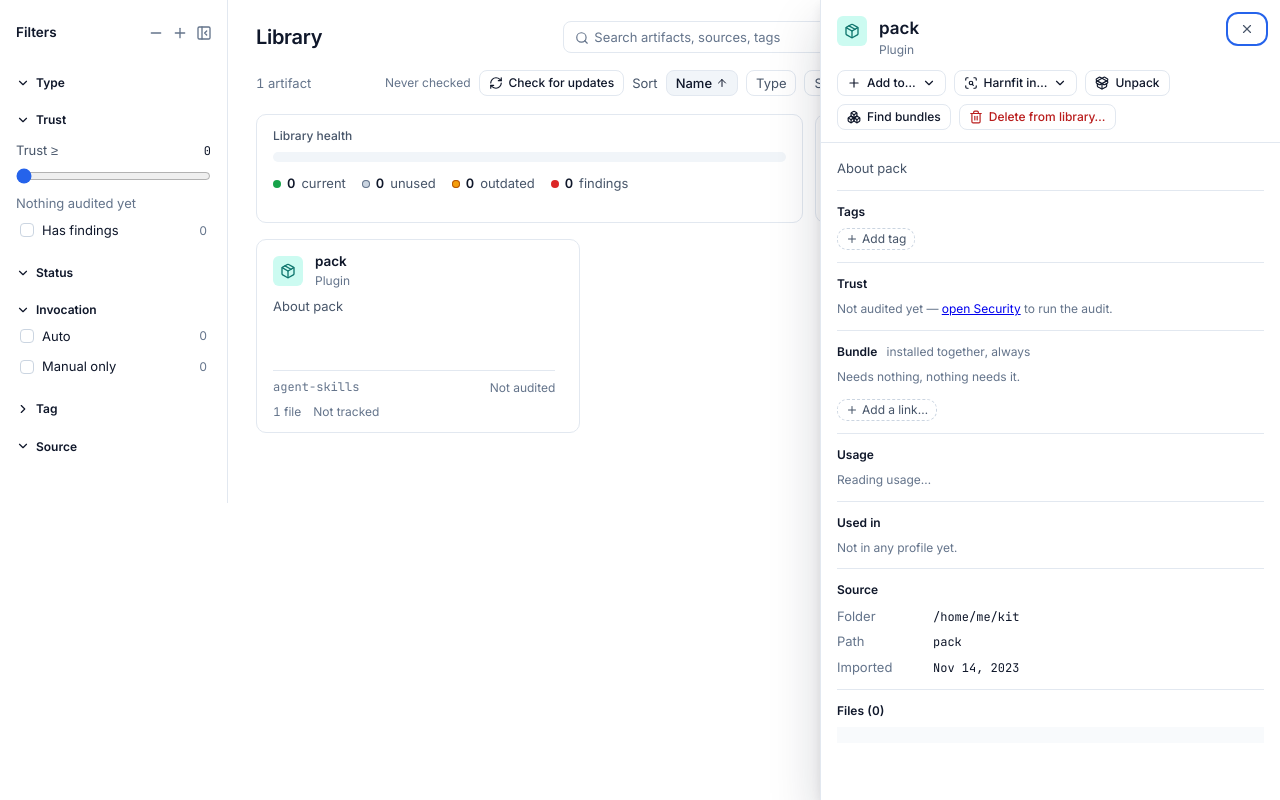
Test: unpacking a whole plugin › lists the parts and the profiles in the confirm, then opens the first part
The width and height of the screenshot is (1280, 800).
Click the button "Unpack".
click(1128, 83)  # box [1086, 70, 1170, 96]
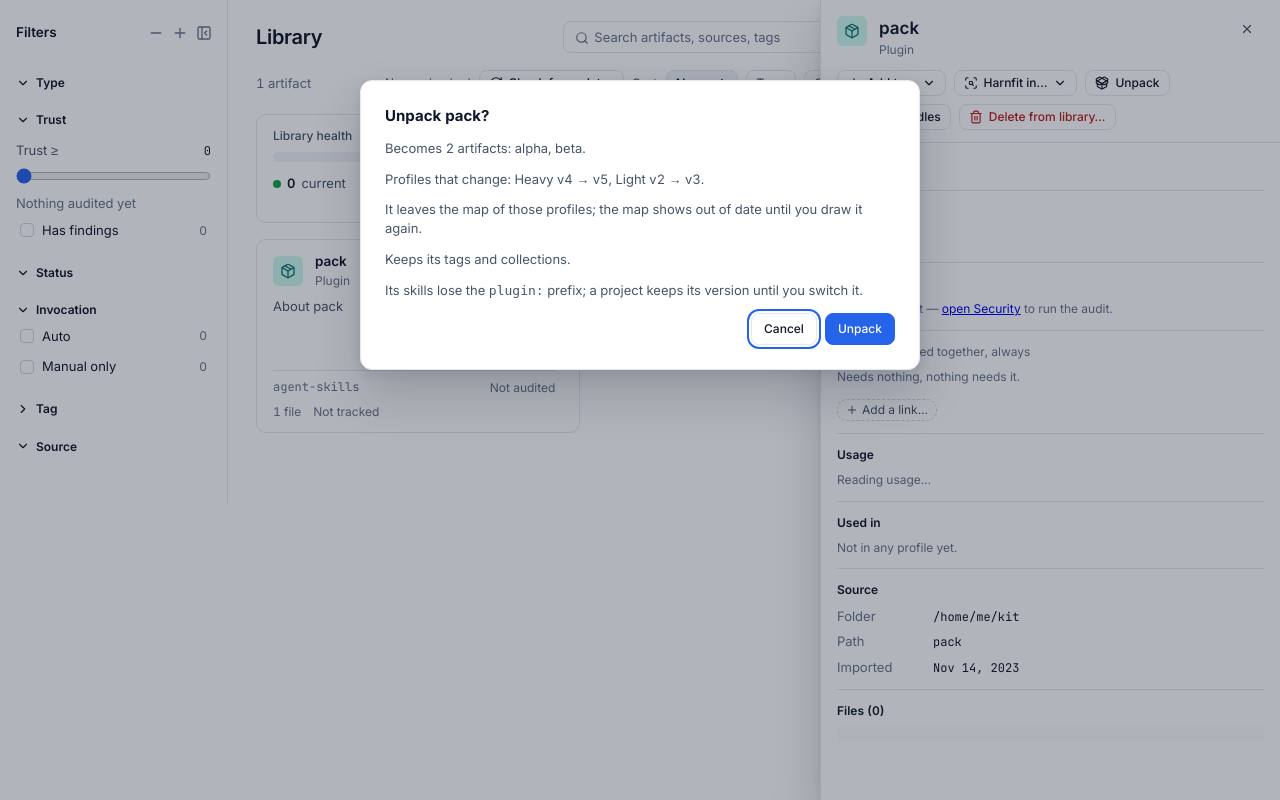
Check: the text "Becomes 2 artifacts: alpha, beta." is shown, box [385, 140, 586, 156]
Check: the text "Profiles that change: Heavy v4 → v5, Light v2 → v3." is shown, box [385, 171, 704, 187]
Check: the text "Keeps its tags and collections." is shown, box [385, 251, 570, 267]
Click the button "Unpack".
click(860, 329)  # box [825, 313, 895, 345]
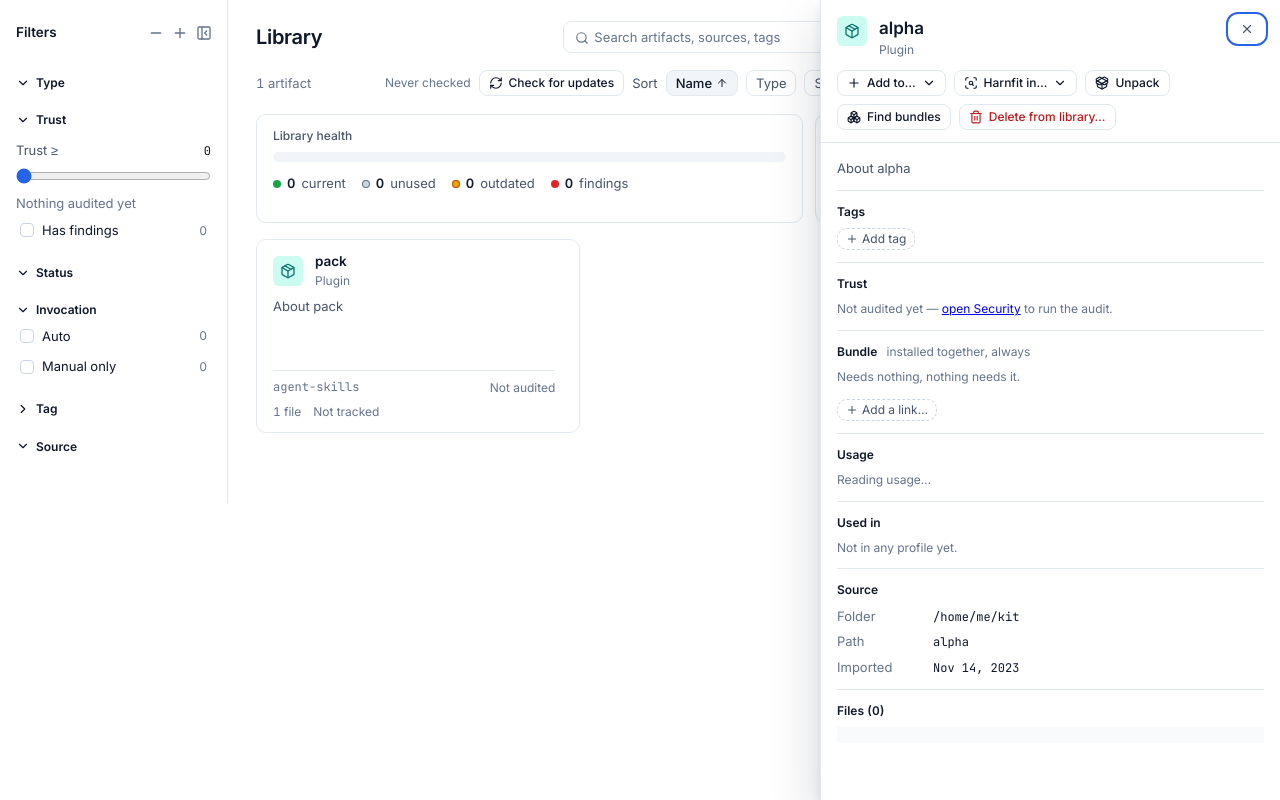
Check: the dialog named "alpha details" is shown, box [820, 0, 1279, 799]
